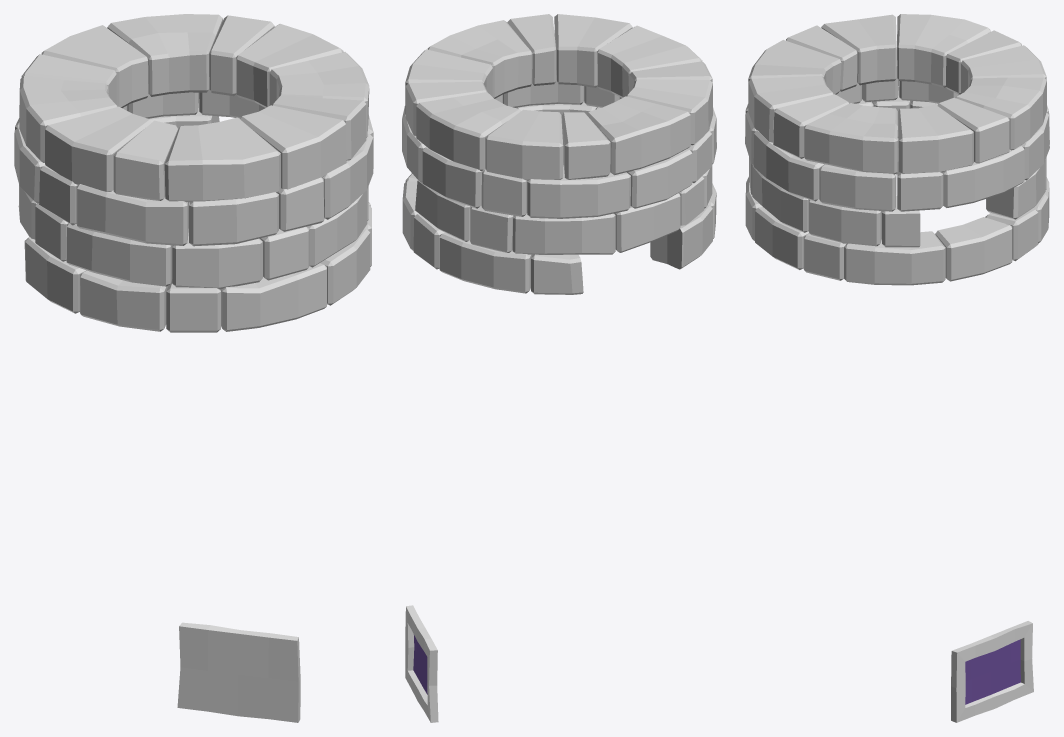
The model's file is _OLD_forno.glb.
3 renders of one model, left to right at view 1: azimuth 30°, elevation 25°; view 2: azimuth 150°, elevation 25°; view 3: azimuth 270°, elevation 25°, orthographic. The views are drawn at different scales.
Parts seen in each view (by area): view 1: liv_04, liv_03, liv_01, liv_02, door; view 2: liv_04, liv_03, liv_02, liv_01, door; view 3: liv_04, liv_03, liv_01, liv_02, door.
Boxes of the visible parts, x1,y1,x2,y2 form: liv_04: (19, 14, 369, 202); liv_03: (14, 88, 373, 246); liv_01: (24, 202, 371, 332); liv_02: (18, 99, 368, 289); door: (177, 622, 300, 722); liv_04: (405, 14, 712, 180); liv_03: (402, 70, 716, 218); liv_02: (415, 101, 712, 254); liv_01: (402, 163, 716, 294); door: (405, 605, 438, 722); liv_04: (748, 14, 1046, 174); liv_03: (745, 49, 1049, 211); liv_01: (745, 138, 1049, 285); liv_02: (749, 87, 1046, 247); door: (951, 621, 1033, 722).
Size of the model in its own units: 3.73 by 7.98 by 3.73.
